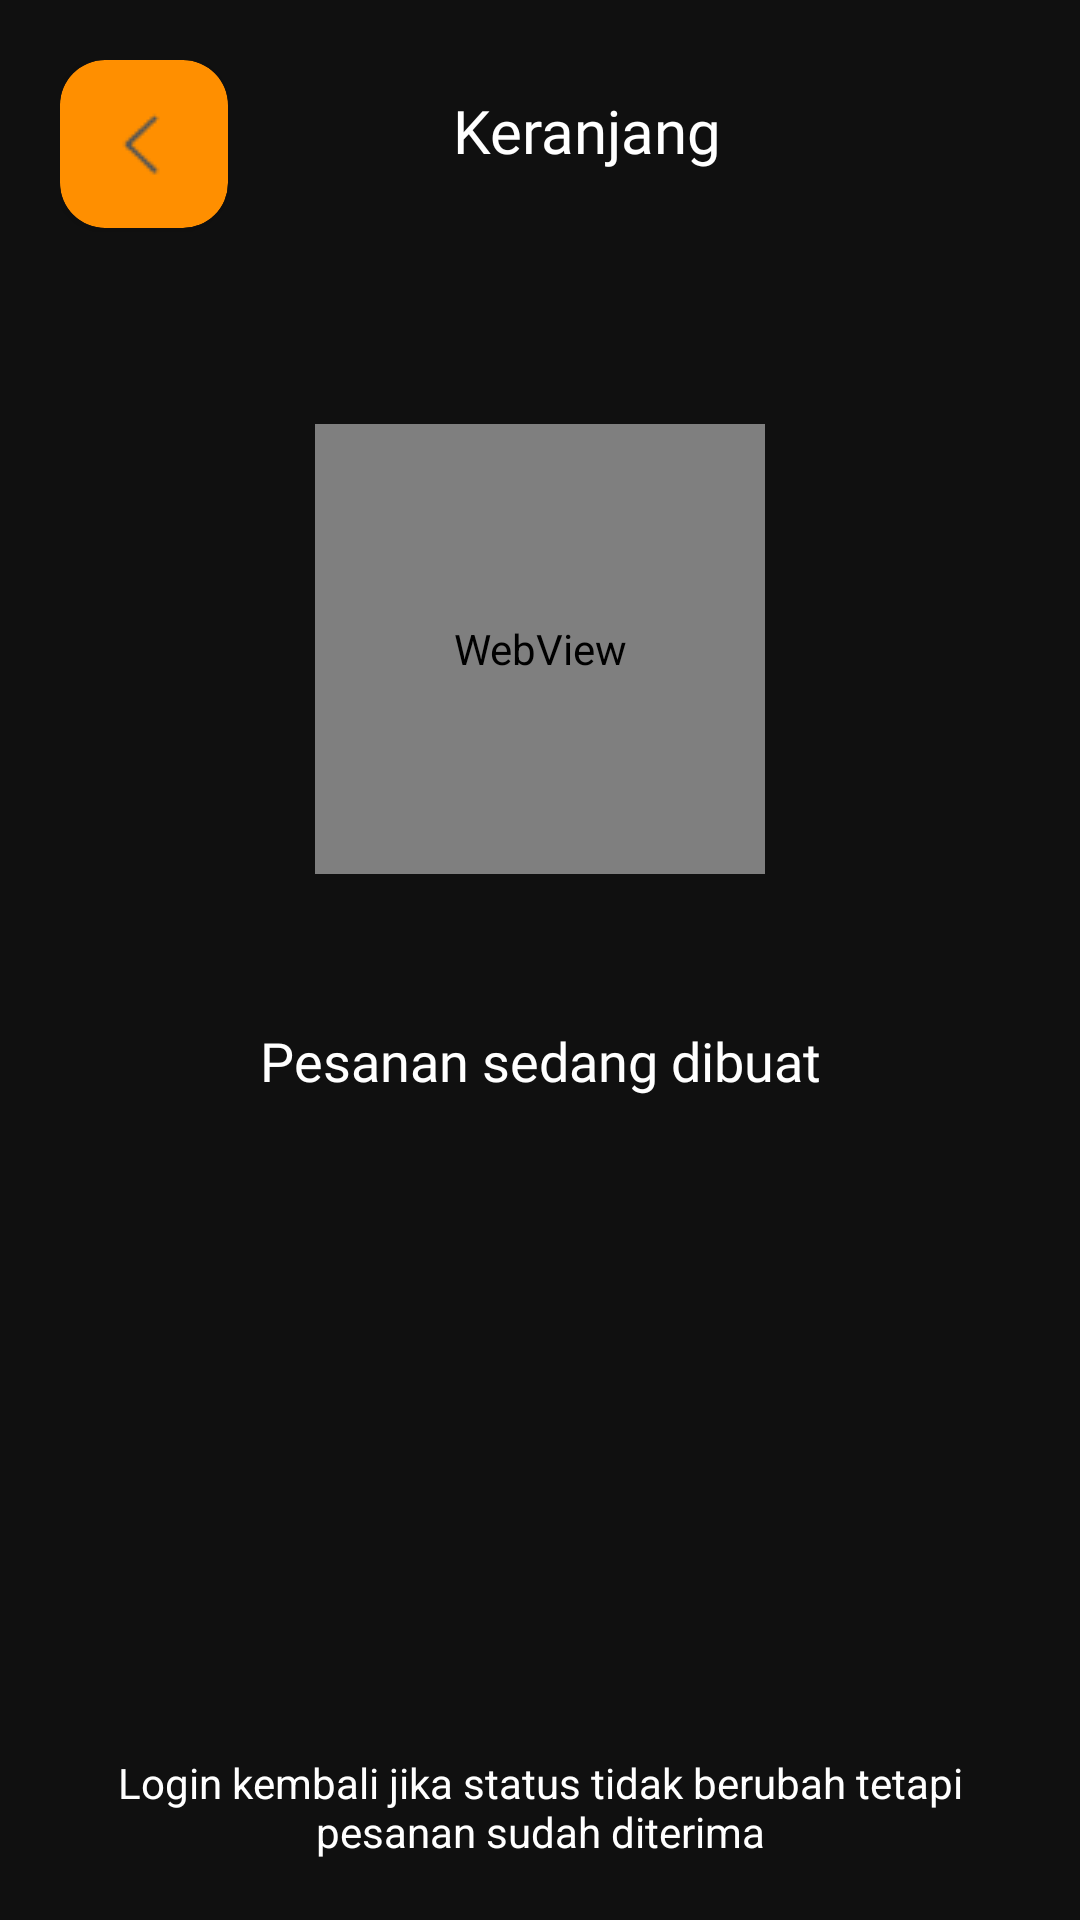

Named icons in this screenshot (1080×1920) and their centers, point (x, y):
back arrow: point (144, 144)
